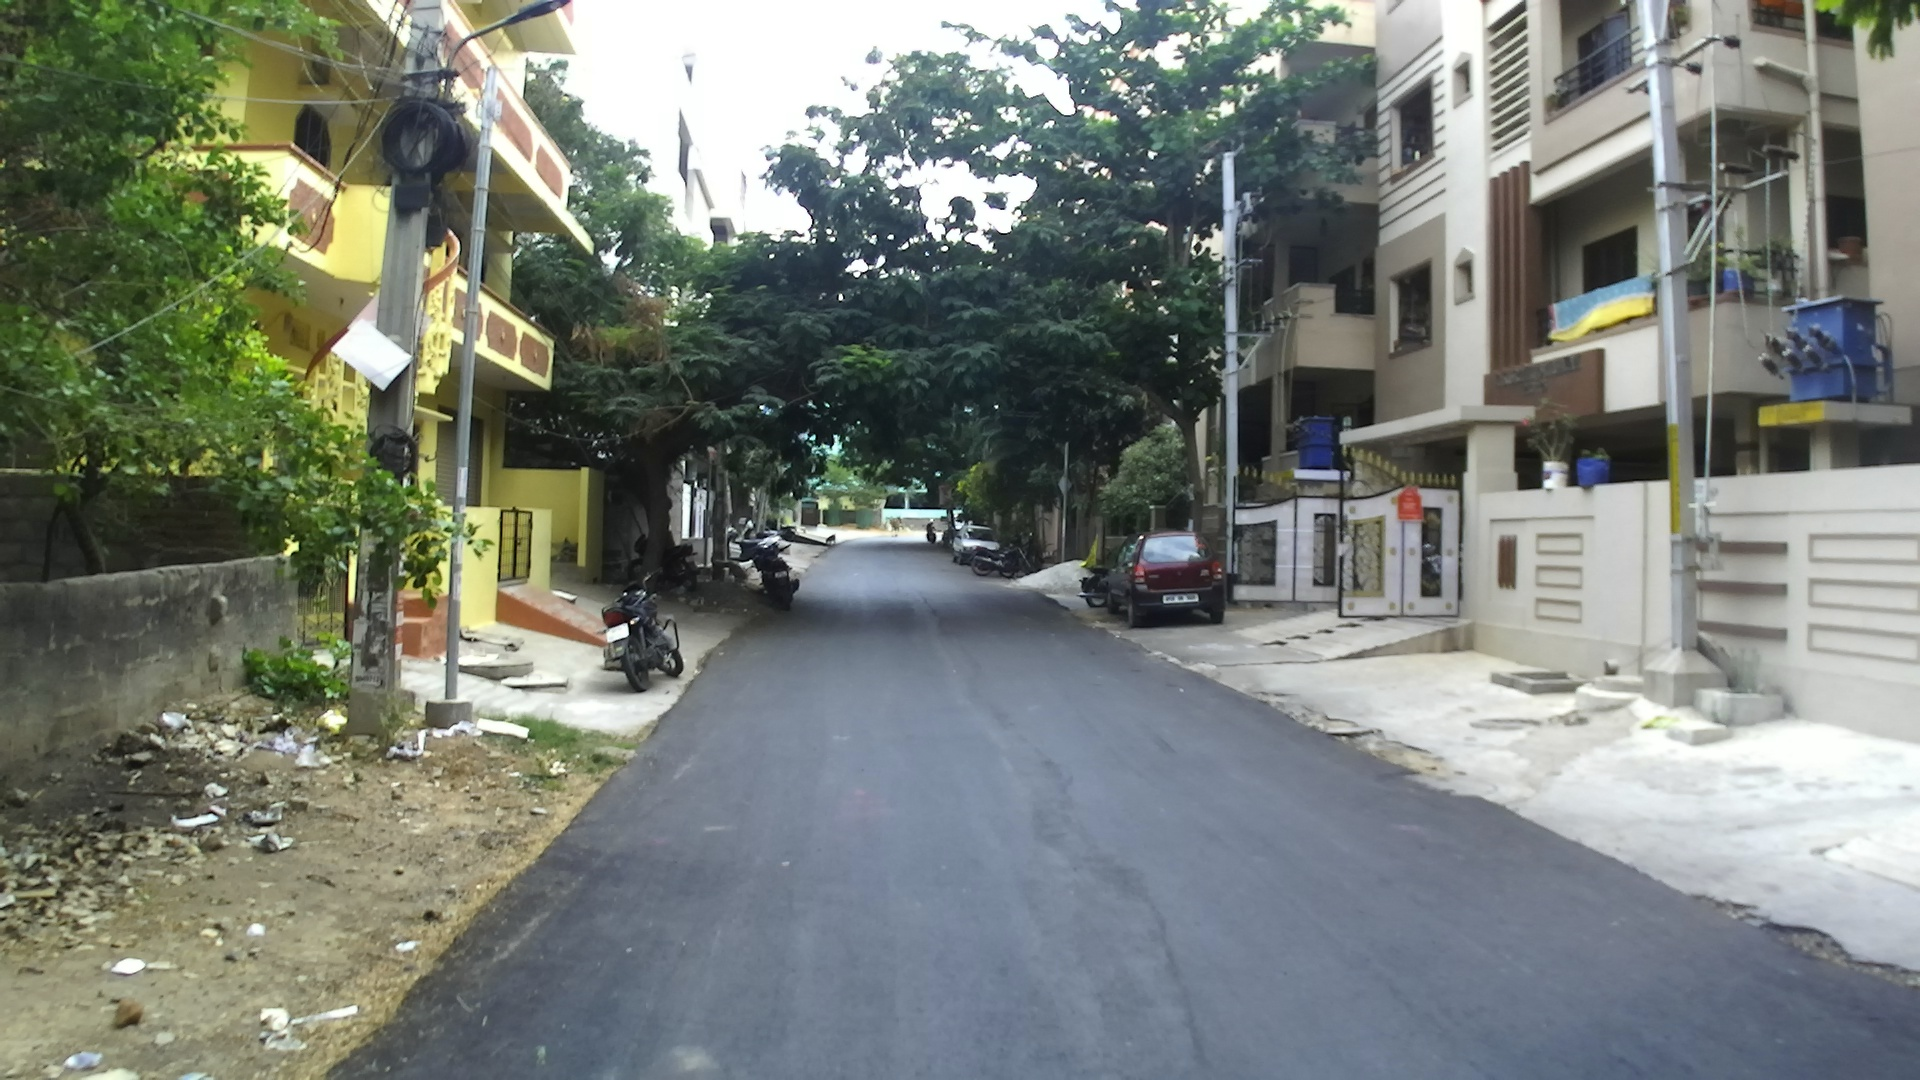vehicle: (1113, 530, 1230, 625), (601, 587, 687, 692), (733, 526, 806, 608), (945, 518, 1004, 559), (955, 531, 1009, 572)
